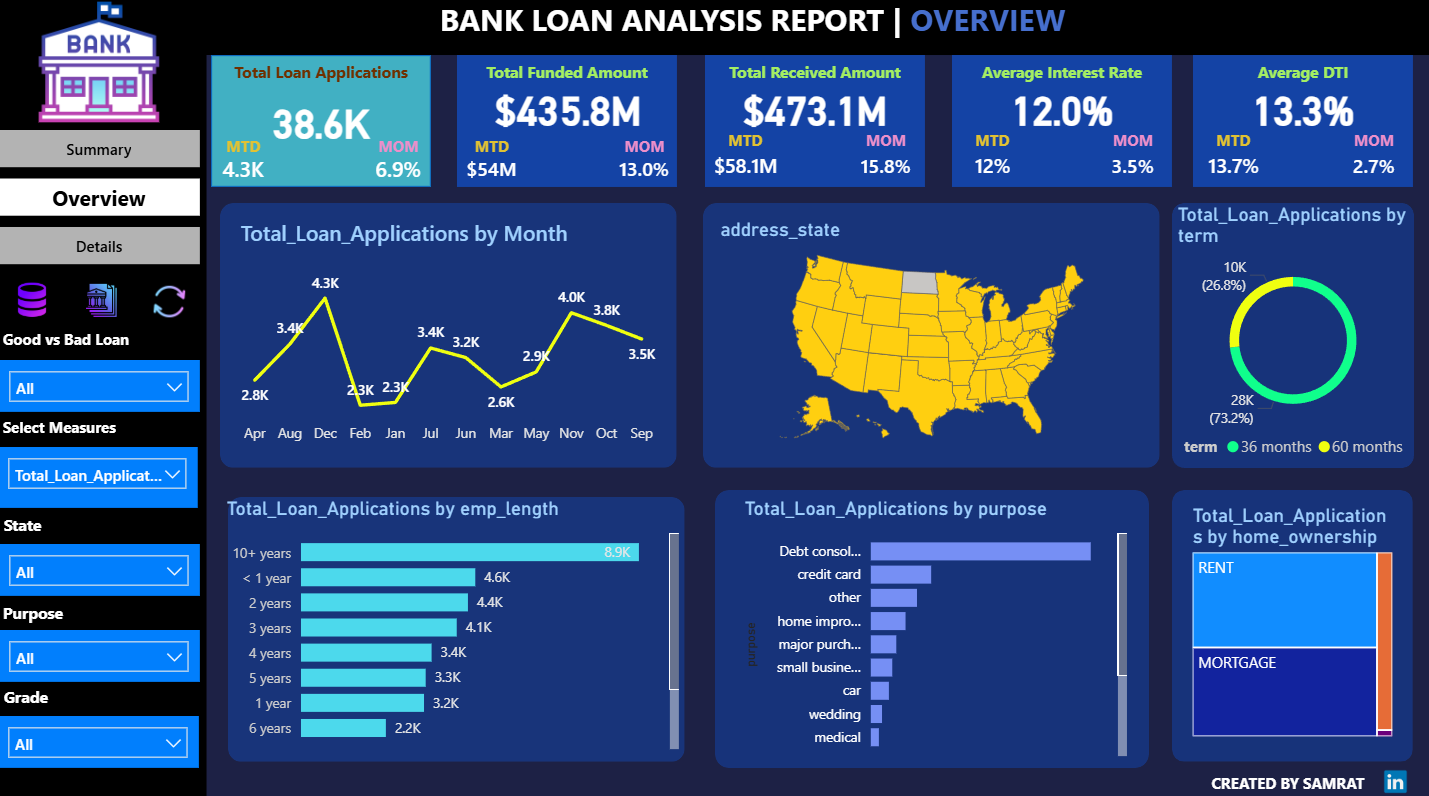

Layout of this report page (visuals, bound fields, positions):
{"tool":"powerbi","page":{"name":"Overview","canvas":[1280,720],"ordinal":1},"visuals":[{"type":"shape","box":[0,0,1280,55],"z":0},{"type":"shape","box":[196,55,195.1,117],"z":0,"group":"g4"},{"type":"shape","box":[414.4,55,195.1,117],"z":0,"group":"g2"},{"type":"shape","box":[633.6,55,195.1,117],"z":0,"group":"g3"},{"type":"shape","box":[852.6,55,195.1,117],"z":0,"group":"g5"},{"type":"shape","box":[1066.3,55,195.1,117],"z":0,"group":"g6"},{"type":"shape","box":[203.9,186.2,405.2,235],"z":1000},{"type":"shape","box":[0,55,192.4,665],"z":2000},{"type":"textbox","box":[272.2,0,807.8,55],"z":3000},{"type":"group","id":"g1","title":"Group 1","box":[196,55,195.1,117],"z":4000},{"type":"card","fields":{"Values":["Date Table.Total Funded Amount"]},"box":[414.7,79,195.1,45.2],"z":4000,"group":"g2"},{"type":"card","fields":{"Values":["Date Table.Total Recieved Amount"]},"box":[633.9,79,195.1,45.2],"z":4000,"group":"g3"},{"type":"card","fields":{"Values":["Date Table.Average Interest Rate"]},"box":[852.9,79,195.1,45.2],"z":4000,"group":"g5"},{"type":"card","fields":{"Values":["Date Table.Average DTI"]},"box":[1066.6,79,195.1,45.2],"z":4000,"group":"g6"},{"type":"card","fields":{"Values":["bank_loan_data.Total_Loan_Applications"]},"box":[196,90.5,195.1,45.2],"z":4000,"group":"g4"},{"type":"textbox","box":[196,55,195.1,35.5],"z":5000,"group":"g4"},{"type":"group","id":"g2","title":"Group 2","box":[414.1,55,195.7,117.1],"z":5000},{"type":"textbox","box":[414.4,55,195.1,35.5],"z":5000,"group":"g2"},{"type":"textbox","box":[633.6,55,195.1,35.5],"z":5000,"group":"g3"},{"type":"textbox","box":[852.6,55,195.1,35.5],"z":5000,"group":"g5"},{"type":"textbox","box":[1066.3,55,195.1,35.5],"z":5000,"group":"g6"},{"type":"card","title":"MTD","fields":{"Values":["bank_loan_data.MTD Total Received Amount"]},"box":[633.1,121.3,73.6,50.5],"z":6000,"group":"g3"},{"type":"card","title":"MTD","fields":{"Values":["bank_loan_data.MTD Average Interest Rate"]},"box":[852.1,121.3,73.6,50.5],"z":6000,"group":"g5"},{"type":"card","title":"MTD","fields":{"Values":["bank_loan_data.MTD Average DTI"]},"box":[1065.8,121.3,73.6,50.5],"z":6000,"group":"g6"},{"type":"card","title":"MTD","fields":{"Values":["bank_loan_data.MTD Total Loan Applications"]},"box":[196,126.8,57.6,45.2],"z":6000,"group":"g4"},{"type":"card","title":"MTD","fields":{"Values":["bank_loan_data.MTD Total Funded Amount"]},"box":[414.1,126.8,62.1,45.2],"z":6000,"group":"g2"},{"type":"textbox","box":[7.1,456.7,54.1,31.9],"z":6000},{"type":"group","id":"g3","title":"Group 2","box":[633.1,55,196,117],"z":7000},{"type":"card","title":"MOM","fields":{"Values":["Date Table.MOM Total Received Amount"]},"box":[759.9,121.3,69.2,50.5],"z":7000,"group":"g3"},{"type":"card","title":"MOM","fields":{"Values":["Date Table.MOM Average Interest Rate"]},"box":[978.9,121.3,69.2,50.5],"z":7000,"group":"g5"},{"type":"card","title":"MOM","fields":{"Values":["Date Table.MOM Average DTI"]},"box":[1192.6,121.3,69.2,50.5],"z":7000,"group":"g6"},{"type":"card","title":"MOM","fields":{"Values":["Date Table.MOM Loan Application"]},"box":[333.4,126.8,57.6,45.2],"z":7000,"group":"g4"},{"type":"card","title":"MOM","fields":{"Values":["Date Table.MOM Funded Amount"]},"box":[551.8,126.8,57.6,45.2],"z":7000,"group":"g2"},{"type":"group","id":"g4","title":"Group 2","box":[196,55,195.1,117],"z":7002,"group":"g1"},{"type":"group","id":"g5","title":"Group 2","box":[852.1,55,196,117],"z":8000},{"type":"group","id":"g6","title":"Group 2","box":[1065.8,55,196,117],"z":9000},{"type":"slicer","fields":{"Values":["bank_loan_data.address_state"]},"box":[7.1,488.6,179.1,46.1],"z":10000},{"type":"slicer","fields":{"Values":["bank_loan_data.purpose"]},"box":[7.1,564.8,179.1,46.1],"z":11000},{"type":"slicer","fields":{"Values":["bank_loan_data.grade","bank_loan_data.sub_grade"]},"box":[6.2,641.1,179.1,46.1],"z":12000},{"type":"textbox","box":[6.2,534.7,88.7,30.1],"z":13000},{"type":"textbox","box":[7.1,609.2,69.2,31.9],"z":14000},{"type":"lineChart","fields":{"Y":["bank_loan_data.Total_Loan_Applications"],"Category":["Date Table.Month"]},"box":[217.2,199.5,378.6,209.3],"z":15000},{"type":"slicer","fields":{"Values":["Select Measure.Select Measure"]},"box":[6.2,402.6,178.2,54.1],"z":16000},{"type":"textbox","box":[6.2,371.5,137.4,31.9],"z":17000},{"type":"shape","box":[632.2,186.2,405.2,235],"z":18000},{"type":"shapeMap","fields":{"Category":["bank_loan_data.address_state"]},"box":[642.9,199.5,384.8,209.3],"z":19000},{"type":"shape","box":[1048.1,186.2,214.6,235],"z":20000},{"type":"donutChart","fields":{"Y":["bank_loan_data.Total_Loan_Applications"],"Category":["bank_loan_data.term"]},"box":[1048.1,186.2,214.6,235],"z":21000},{"type":"shape","box":[211,446.9,405.2,235],"z":22000},{"type":"clusteredBarChart","fields":{"Y":["bank_loan_data.Total_Loan_Applications"],"Category":["bank_loan_data.emp_length"]},"box":[204.8,446.9,411.4,228.8],"z":23000},{"type":"shape","box":[642.9,440.7,384.8,246.5],"z":24000},{"type":"clusteredBarChart","fields":{"Y":["bank_loan_data.Total_Loan_Applications"],"Category":["bank_loan_data.purpose"]},"box":[664.1,446.9,349.4,235],"z":25000},{"type":"shape","box":[1048.1,440.7,213.7,241.2],"z":26000},{"type":"treemap","fields":{"Values":["bank_loan_data.Total_Loan_Applications"],"Group":["bank_loan_data.home_ownership"]},"box":[1061.4,453.1,187.1,211],"z":27000},{"type":"slicer","fields":{"Values":["bank_loan_data.Good vs Bad Loan"]},"box":[7.1,325.4,179.1,46.1],"z":28000},{"type":"textbox","box":[6.2,293.5,137.4,31.9],"z":29000},{"type":"pageNavigator","box":[7.1,121.5,179.1,121.5],"z":30000},{"type":"image","box":[7.1,2.7,179.1,117],"z":31000},{"type":"image","box":[13.3,250.9,47.9,41.7],"z":32000},{"type":"image","box":[76.3,250.9,43.4,41.7],"z":33000},{"type":"image","box":[140.1,253.6,38.1,39],"z":34000},{"type":"textbox","box":[1061.4,687.2,179.1,28.4],"z":35000},{"type":"image","box":[1230.7,682.8,31,32.8],"z":36000}]}

Visuals, with their boxes in screenshot pixels (x1, y1, x2, y2), scaled from the page's 1280x720 canvas onto the 1429x796 screenshot:
shape: 0/0/1428/61
shape: 219/61/437/190
shape: 463/61/680/190
shape: 707/61/925/190
shape: 952/61/1170/190
shape: 1190/61/1408/190
shape: 228/206/680/466
shape: 0/61/215/795
textbox: 304/0/1206/61
"Group 1" group: 219/61/437/190
card - Date Table.Total Funded Amount: 463/87/681/137
card - Date Table.Total Recieved Amount: 708/87/926/137
card - Date Table.Average Interest Rate: 952/87/1170/137
card - Date Table.Average DTI: 1191/87/1409/137
card - bank_loan_data.Total_Loan_Applications: 219/100/437/150
textbox: 219/61/437/100
"Group 2" group: 462/61/681/190
textbox: 463/61/680/100
textbox: 707/61/925/100
textbox: 952/61/1170/100
textbox: 1190/61/1408/100
"MTD" card: 707/134/789/190
"MTD" card: 951/134/1033/190
"MTD" card: 1190/134/1272/190
"MTD" card: 219/140/283/190
"MTD" card: 462/140/532/190
textbox: 8/505/68/540
"Group 2" group: 707/61/926/190
"MOM" card: 848/134/926/190
"MOM" card: 1093/134/1170/190
"MOM" card: 1331/134/1409/190
"MOM" card: 372/140/437/190
"MOM" card: 616/140/680/190
"Group 2" group: 219/61/437/190
"Group 2" group: 951/61/1170/190
"Group 2" group: 1190/61/1409/190
slicer - bank_loan_data.address_state: 8/540/208/591
slicer - bank_loan_data.purpose: 8/624/208/675
slicer - bank_loan_data.grade x bank_loan_data.sub_grade: 7/709/207/760
textbox: 7/591/106/624
textbox: 8/674/85/709
lineChart - bank_loan_data.Total_Loan_Applications x Date Table.Month: 242/221/665/452
slicer - Select Measure.Select Measure: 7/445/206/505
textbox: 7/411/160/446
shape: 706/206/1158/466
shapeMap - bank_loan_data.address_state: 718/221/1147/452
shape: 1170/206/1410/466
donutChart - bank_loan_data.Total_Loan_Applications x bank_loan_data.term: 1170/206/1410/466
shape: 236/494/688/754
clusteredBarChart - bank_loan_data.Total_Loan_Applications x bank_loan_data.emp_length: 229/494/688/747
shape: 718/487/1147/760
clusteredBarChart - bank_loan_data.Total_Loan_Applications x bank_loan_data.purpose: 741/494/1131/754
shape: 1170/487/1409/754
treemap - bank_loan_data.Total_Loan_Applications x bank_loan_data.home_ownership: 1185/501/1394/734
slicer - bank_loan_data.Good vs Bad Loan: 8/360/208/411
textbox: 7/324/160/360
pageNavigator: 8/134/208/269
image: 8/3/208/132
image: 15/277/68/323
image: 85/277/134/323
image: 156/280/199/323
textbox: 1185/760/1385/791
image: 1374/755/1409/791
